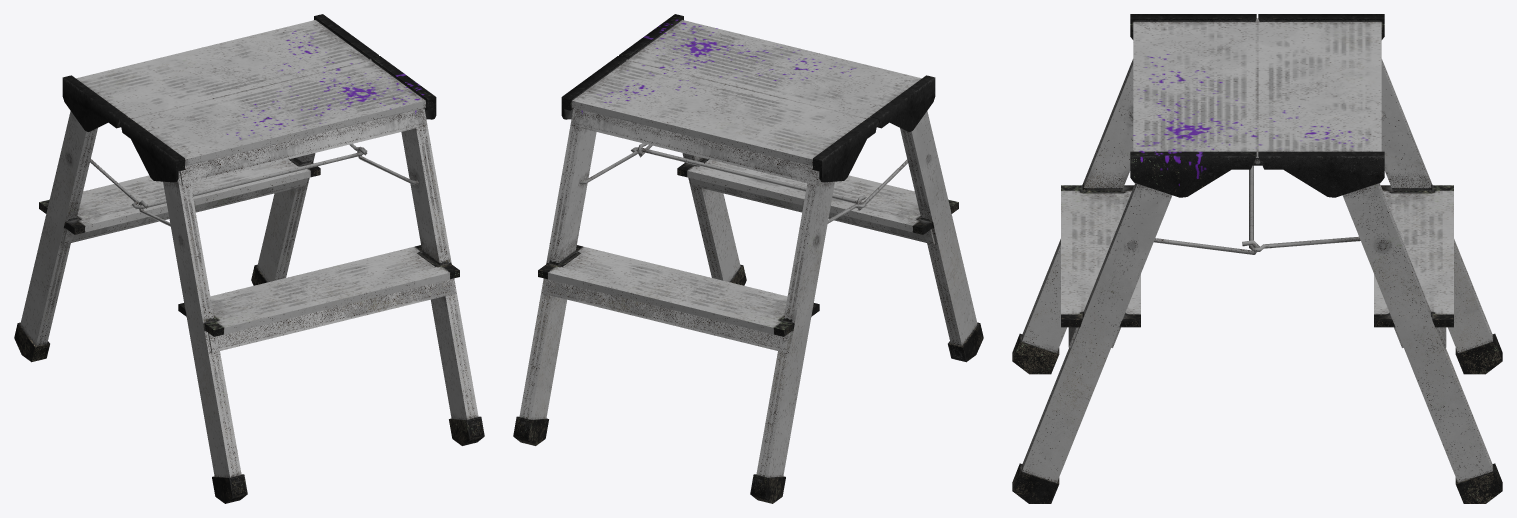
The model's file is LibraryLadder.FBX.
The picture shows the model from 3 angles, left to right: view 1: azimuth 30°, elevation 25°; view 2: azimuth 150°, elevation 25°; view 3: azimuth 270°, elevation 25°; orthographic projection. The views are drawn at different scales.
Visible parts, largest first — view 1: LibraryLadder; view 2: LibraryLadder; view 3: LibraryLadder.
Boxes of the visible parts, bbox=[...] form: LibraryLadder: bbox=[14, 14, 484, 503]; LibraryLadder: bbox=[513, 14, 983, 503]; LibraryLadder: bbox=[1012, 14, 1502, 503].
Bounding box in the file's own units: 40.8 × 46.66 × 59.34.
